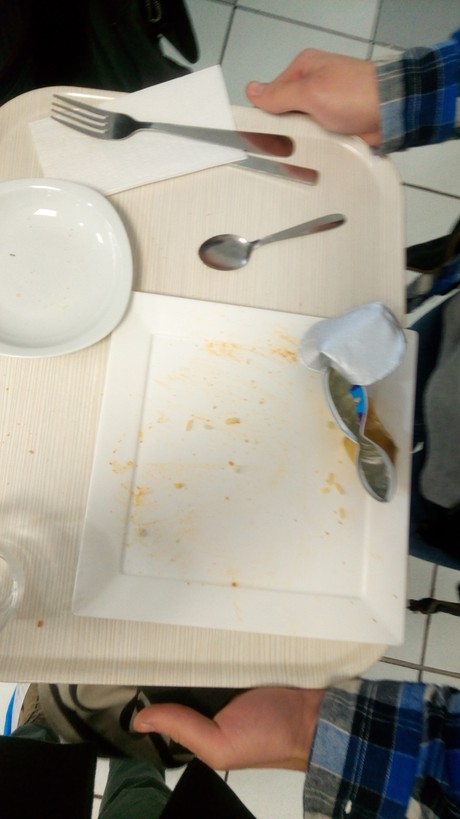cutlery: (46, 83, 334, 199), (200, 209, 353, 273)
trash: (307, 309, 414, 502)
